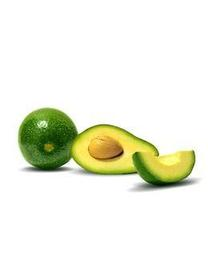avocado: (69, 125, 160, 175), (18, 108, 79, 170)
